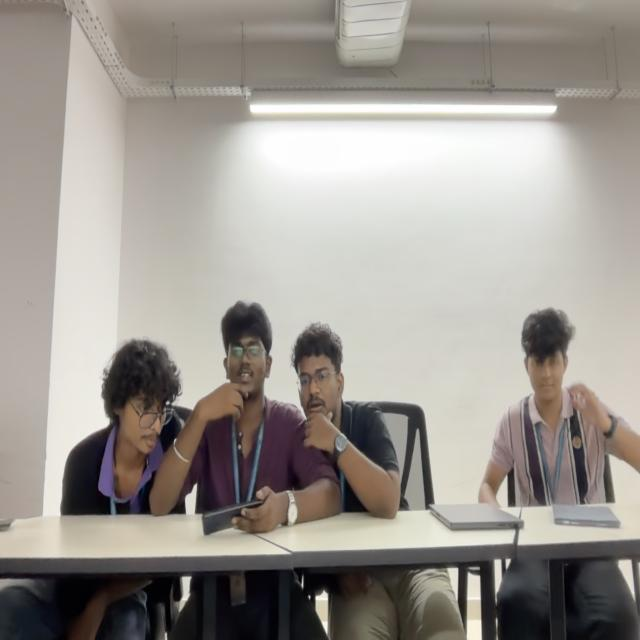Isolated: (477, 308, 640, 506)
socializing: (59, 299, 400, 519)
